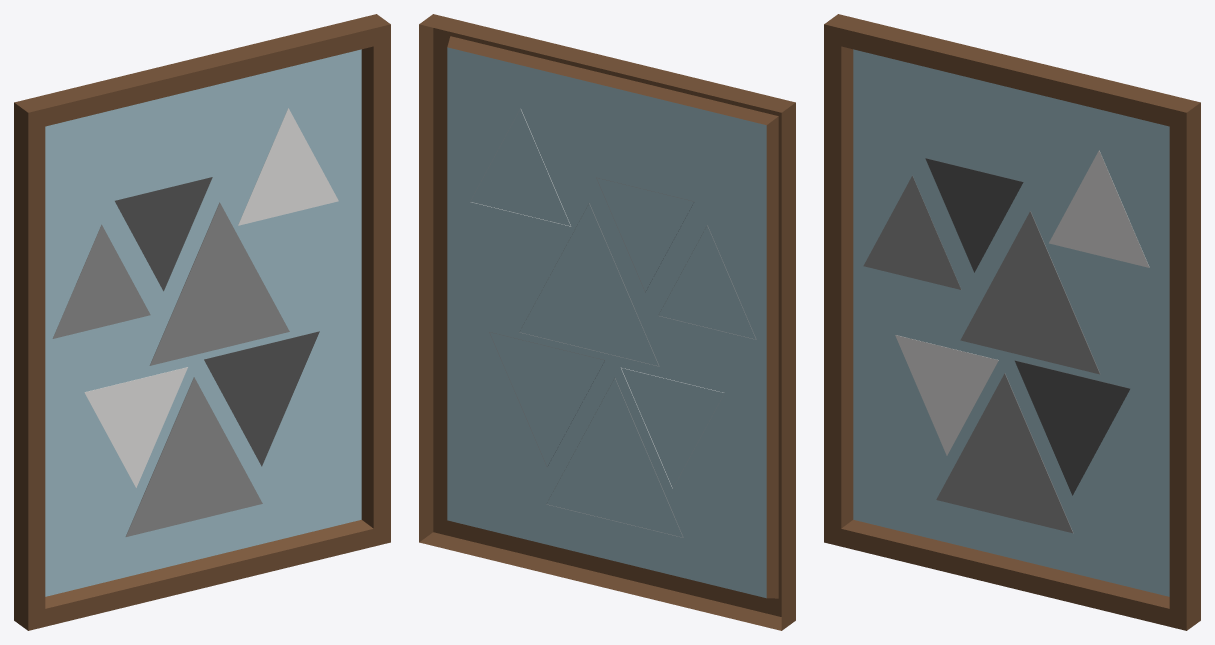
File: Picture_4.fbx
3 views of the same model, side by side, from view 1: azimuth 30°, elevation 25°; view 2: azimuth 150°, elevation 25°; view 3: azimuth 330°, elevation 25° (orthographic).
Visible parts, largest first — view 1: Picture_4; view 2: Picture_4; view 3: Picture_4.
Boxes of the visible parts, bbox=[...] form: Picture_4: bbox=[14, 14, 390, 630]; Picture_4: bbox=[419, 14, 795, 630]; Picture_4: bbox=[824, 14, 1200, 630].
Size of the model in its own units: 84.86 by 5.72 by 116.
